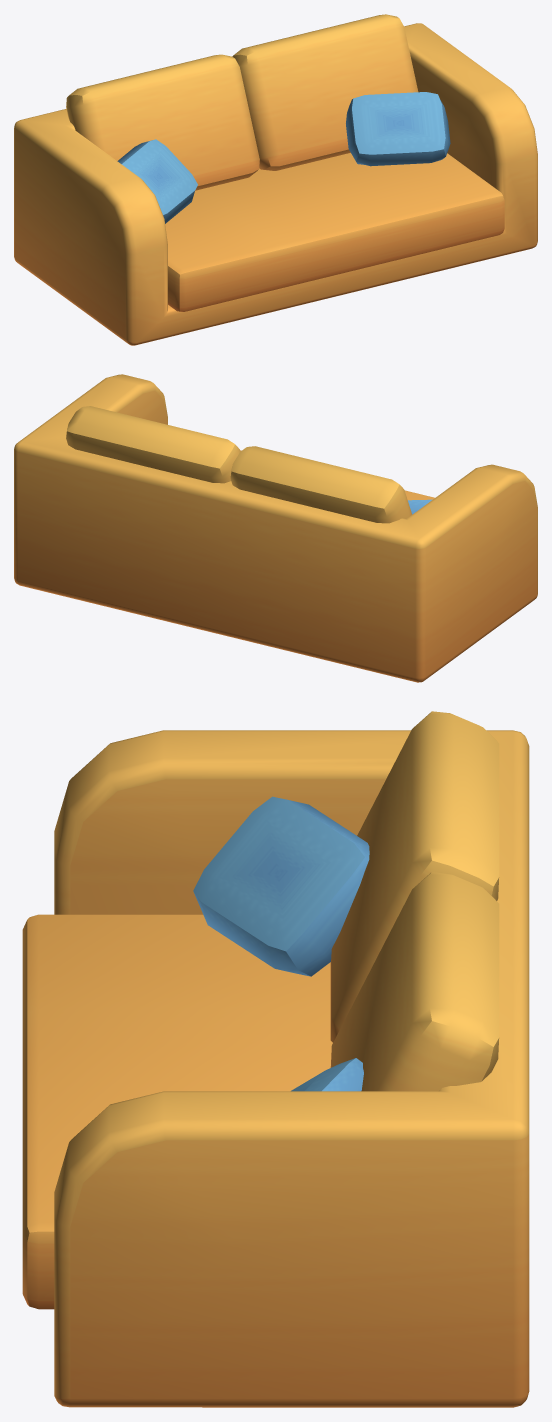
The model's file is couch_pillows.gltf.
3 views of the same model, one above another, from view 1: azimuth 30°, elevation 25°; view 2: azimuth 150°, elevation 25°; view 3: azimuth 270°, elevation 25° (orthographic). The views are drawn at different scales.
Visible parts, largest first — view 1: couch_pillows; view 2: couch_pillows; view 3: couch_pillows.
Boxes of the visible parts, left/top/right/bottom form: couch_pillows: left=14, top=14, right=537, bottom=345; couch_pillows: left=14, top=374, right=537, bottom=682; couch_pillows: left=22, top=711, right=529, bottom=1407.
Bounding box in the file's own units: 3 × 1.22 × 1.6.
Materials: 1 (1 with a texture image).
